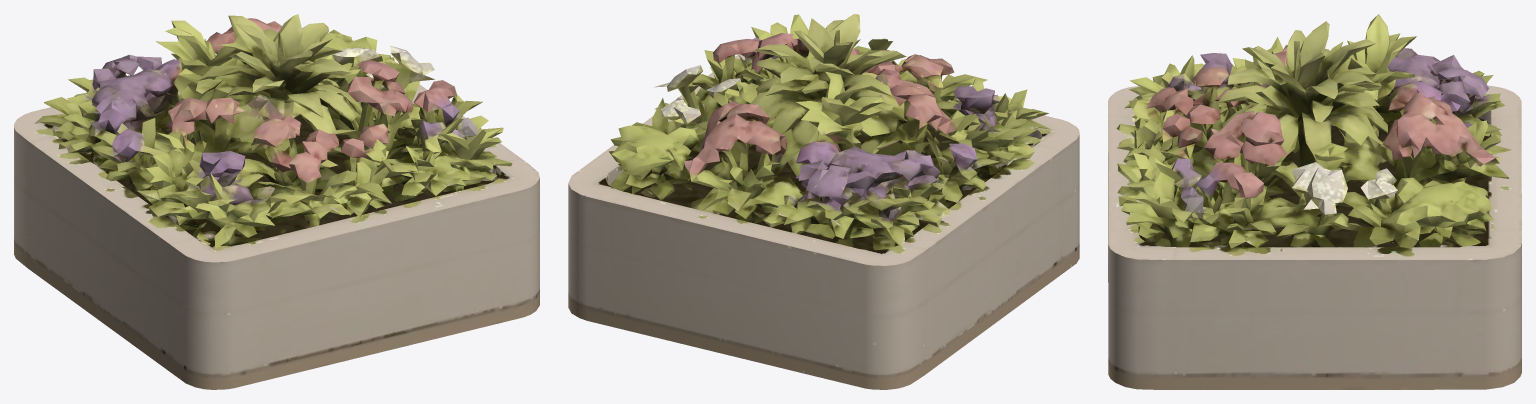
File: planter_square.glb
3 views of the same model, side by side, from view 1: azimuth 30°, elevation 25°; view 2: azimuth 150°, elevation 25°; view 3: azimuth 270°, elevation 25° (orthographic). The views are drawn at different scales.
Parts seen in each view (by area): view 1: body; view 2: body; view 3: body.
Boxes of the visible parts, bbox=[...] form: body: bbox=[14, 14, 539, 389]; body: bbox=[568, 14, 1079, 389]; body: bbox=[1108, 14, 1521, 389].
Bounding box in the file's own units: 1.3 × 0.9156 × 1.3.
1 material, 1 textured.
